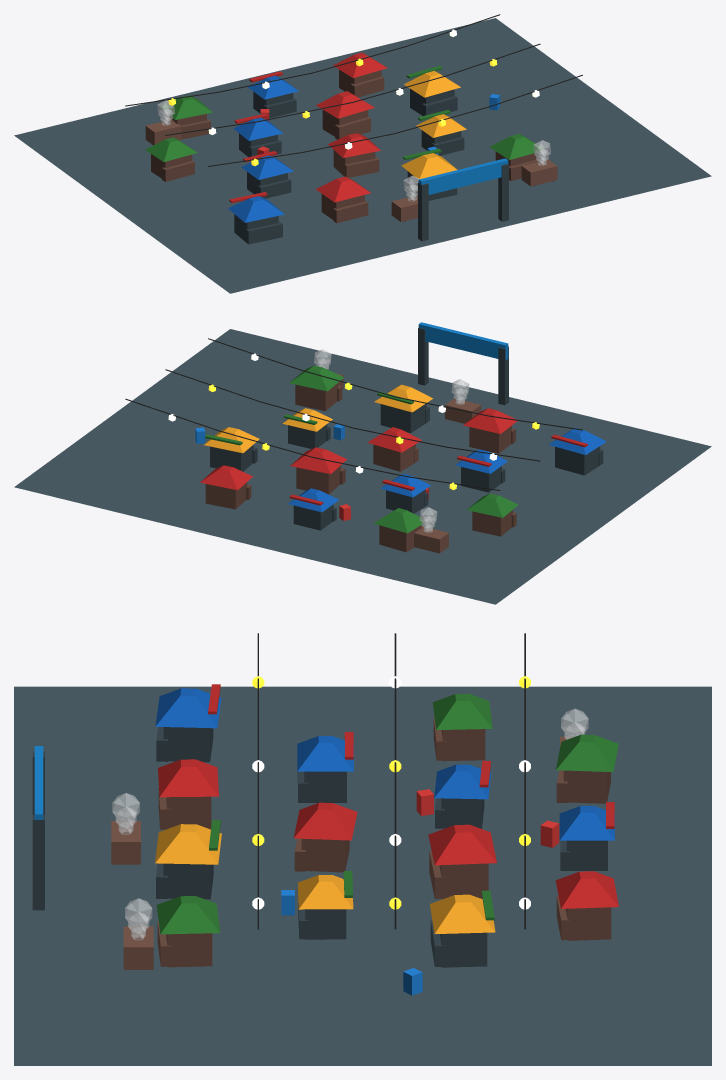
The model's file is cho_dem.glb.
3 renders of one model, top to bottom at view 1: azimuth 30°, elevation 25°; view 2: azimuth 150°, elevation 25°; view 3: azimuth 270°, elevation 25°, orthographic. The views are drawn at different scales.
Parts seen in each view (by area): view 1: ChoDem_Ground, ChoDem_FactionBanner, ChoDem_Kiosk_0_Awning, ChoDem_Kiosk_9_Awning, ChoDem_Kiosk_2_Awning, ChoDem_Kiosk_10_Awning, ChoDem_Kiosk_1_Awning, ChoDem_Kiosk_3_Awning, ChoDem_Cart_1, ChoDem_Kiosk_5_Awning, ChoDem_Kiosk_7_Awning, ChoDem_Kiosk_13_Awning (+21 smaller); view 2: ChoDem_Ground, ChoDem_FactionBanner, ChoDem_Kiosk_2_Body, ChoDem_Kiosk_0_Body, ChoDem_Kiosk_9_Awning, ChoDem_Kiosk_9_Body, ChoDem_Kiosk_3_Body, ChoDem_Kiosk_1_Body, ChoDem_Kiosk_5_Body, ChoDem_Kiosk_3_Awning, ChoDem_Kiosk_13_Body, ChoDem_Kiosk_1_Awning (+22 smaller); view 3: ChoDem_Ground, ChoDem_Kiosk_9_Awning, ChoDem_Kiosk_2_Awning, ChoDem_Kiosk_3_Awning, ChoDem_Kiosk_0_Awning, ChoDem_Kiosk_1_Awning, ChoDem_Kiosk_10_Awning, ChoDem_Kiosk_13_Awning, ChoDem_Kiosk_5_Awning, ChoDem_Kiosk_11_Awning, ChoDem_Kiosk_7_Awning, ChoDem_Kiosk_4_Awning (+21 smaller).
Boxes of the visible parts, x1=… form: ChoDem_Ground: x1=14, y1=18, x2=711, y2=293; ChoDem_FactionBanner: x1=418, y1=158, x2=508, y2=194; ChoDem_Kiosk_0_Awning: x1=228, y1=196, x2=284, y2=222; ChoDem_Kiosk_9_Awning: x1=316, y1=91, x2=374, y2=118; ChoDem_Kiosk_2_Awning: x1=401, y1=153, x2=457, y2=179; ChoDem_Kiosk_10_Awning: x1=404, y1=70, x2=460, y2=97; ChoDem_Kiosk_1_Awning: x1=316, y1=176, x2=370, y2=202; ChoDem_Kiosk_3_Awning: x1=489, y1=133, x2=542, y2=159; ChoDem_Cart_1: x1=521, y1=159, x2=557, y2=186; ChoDem_Kiosk_5_Awning: x1=328, y1=133, x2=380, y2=157; ChoDem_Kiosk_7_Awning: x1=145, y1=137, x2=197, y2=161; ChoDem_Kiosk_13_Awning: x1=333, y1=52, x2=387, y2=77; ChoDem_Ground: x1=14, y1=329, x2=711, y2=604; ChoDem_FactionBanner: x1=418, y1=322, x2=508, y2=360; ChoDem_Kiosk_2_Body: x1=380, y1=403, x2=426, y2=433; ChoDem_Kiosk_0_Body: x1=555, y1=446, x2=600, y2=475; ChoDem_Kiosk_9_Awning: x1=290, y1=447, x2=346, y2=473; ChoDem_Kiosk_9_Body: x1=296, y1=465, x2=340, y2=494; ChoDem_Kiosk_3_Body: x1=295, y1=383, x2=338, y2=411; ChoDem_Kiosk_1_Body: x1=469, y1=425, x2=511, y2=453; ChoDem_Kiosk_5_Body: x1=373, y1=444, x2=415, y2=471; ChoDem_Kiosk_3_Awning: x1=289, y1=365, x2=343, y2=391; ChoDem_Kiosk_13_Body: x1=205, y1=482, x2=247, y2=509; ChoDem_Kiosk_1_Awning: x1=463, y1=408, x2=517, y2=433; ChoDem_Ground: x1=14, y1=686, x2=711, y2=1065; ChoDem_Kiosk_9_Awning: x1=428, y1=824, x2=496, y2=865; ChoDem_Kiosk_2_Awning: x1=155, y1=824, x2=221, y2=864; ChoDem_Kiosk_3_Awning: x1=156, y1=896, x2=220, y2=934; ChoDem_Kiosk_0_Awning: x1=155, y1=688, x2=221, y2=728; ChoDem_Kiosk_1_Awning: x1=158, y1=759, x2=218, y2=797; ChoDem_Kiosk_10_Awning: x1=430, y1=894, x2=495, y2=933; ChoDem_Kiosk_13_Awning: x1=555, y1=871, x2=618, y2=908; ChoDem_Kiosk_5_Awning: x1=293, y1=802, x2=357, y2=840; ChoDem_Kiosk_11_Awning: x1=556, y1=734, x2=618, y2=772; ChoDem_Kiosk_7_Awning: x1=432, y1=693, x2=492, y2=729; ChoDem_Kiosk_4_Awning: x1=297, y1=736, x2=353, y2=771.
Bounding box in the file's own units: 36 × 4.25 × 28.
